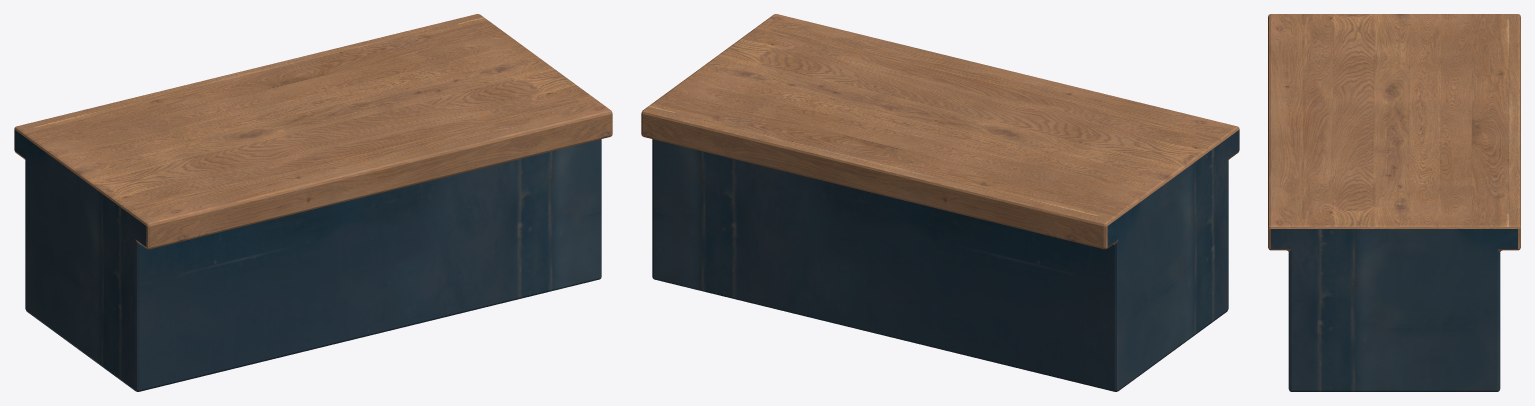
File: coffee_table.glb
The picture shows the model from 3 angles, left to right: view 1: azimuth 30°, elevation 25°; view 2: azimuth 150°, elevation 25°; view 3: azimuth 270°, elevation 25°; orthographic projection. The views are drawn at different scales.
Visible parts, largest first — view 1: CoffeeTable; view 2: CoffeeTable; view 3: CoffeeTable.
Part boxes in pixels (x1=…): CoffeeTable: x1=14, y1=14, x2=612, y2=391; CoffeeTable: x1=641, y1=14, x2=1239, y2=391; CoffeeTable: x1=1268, y1=14, x2=1520, y2=391.
Bounding box in the file's own units: 1.32 × 0.48 × 0.66.
2 materials, 2 textured.
